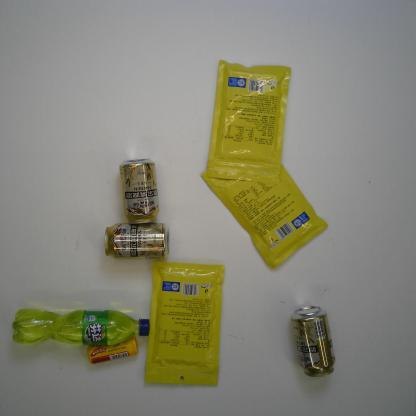Alcohol: (290, 304, 336, 379), (118, 158, 160, 226), (103, 223, 171, 262)
Candy: (86, 336, 140, 366)
Dried Fruit: (200, 163, 329, 270), (205, 58, 292, 186), (142, 260, 226, 386)
Drink: (11, 307, 150, 346)
